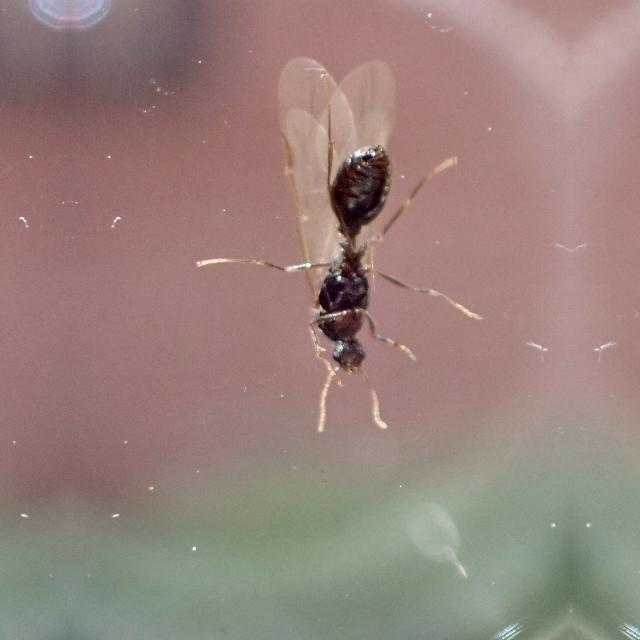Tetramorium: (271, 111, 435, 425)
